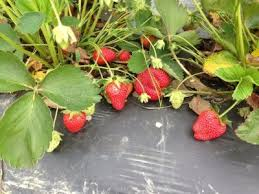ripe: (132, 73, 165, 105), (191, 110, 225, 140), (105, 76, 132, 110), (141, 62, 169, 90), (60, 107, 88, 134), (92, 45, 116, 63), (118, 48, 131, 63)
